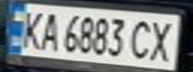3: (106, 15, 130, 57)
6: (60, 11, 81, 53)
8: (90, 14, 112, 56), (78, 12, 96, 55)
A: (36, 9, 63, 52)
C: (127, 16, 157, 61)
K: (15, 7, 45, 51)
X: (145, 17, 181, 63)
